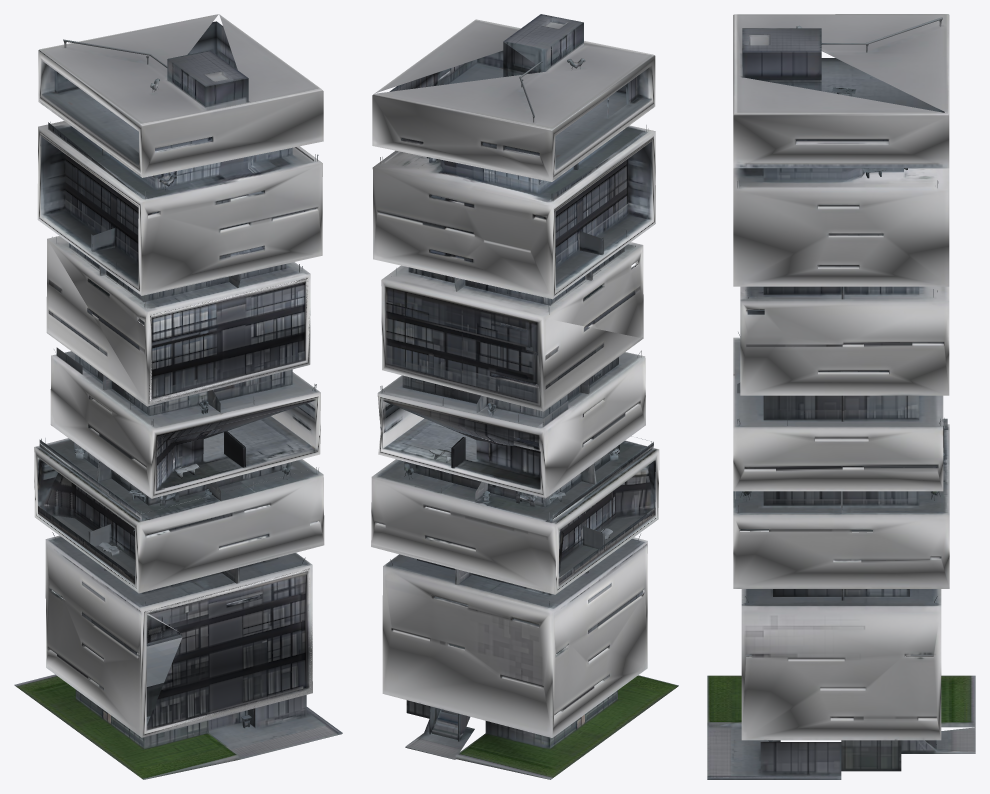
Rendered from town-stacked-tower.glb.
3 views of the same model, side by side, from view 1: azimuth 30°, elevation 25°; view 2: azimuth 150°, elevation 25°; view 3: azimuth 270°, elevation 25° (orthographic). The views are drawn at different scales.
Parts seen in each view (by area): view 1: e950f18a_5850_4a24_b264_6fb17324dab4; view 2: e950f18a_5850_4a24_b264_6fb17324dab4; view 3: e950f18a_5850_4a24_b264_6fb17324dab4.
Part boxes in pixels (x1,y1,x2,y2): e950f18a_5850_4a24_b264_6fb17324dab4: (14, 14, 342, 779); e950f18a_5850_4a24_b264_6fb17324dab4: (371, 14, 678, 779); e950f18a_5850_4a24_b264_6fb17324dab4: (707, 14, 975, 779).
Size of the model in its own units: 0.313 by 0.9995 by 0.3521.
Materials: 1 (1 with a texture image).
